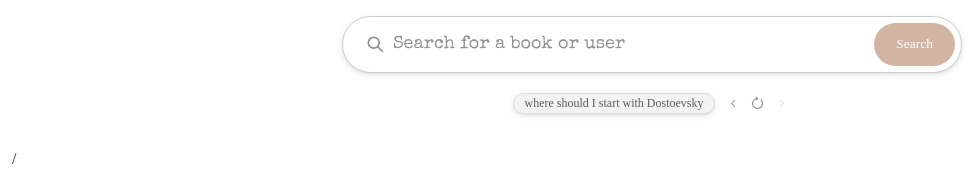
Test: DiscoverPage › the canned search pills (LOS-212) › walking the draw history › steps back to the previous row and forward again without refetching
Expected: the button "where should I start with Dostoevsky" is shown, [512,93,716,114]
Click the button named "Previous searches".
click(734, 104)  # box [724,91,744,117]
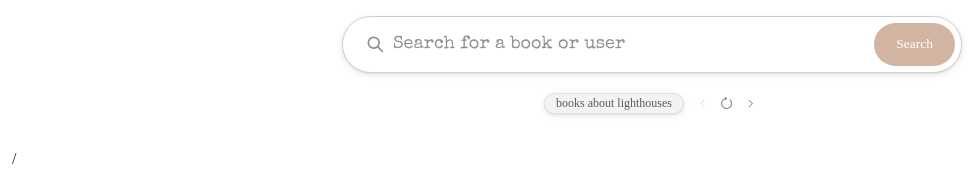
Expected: the button "books about lighthouses" is shown, [544,93,684,114]
Expected: the button "where should I start with Dostoevsky" is gone
Click the button named "Next searches".
click(750, 104)  # box [740,91,760,117]
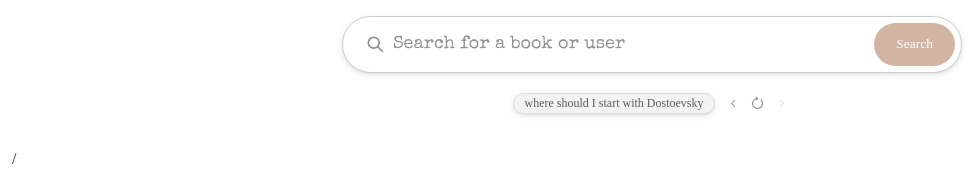
Expected: the button "where should I start with Dostoevsky" is shown, [512,93,716,114]
